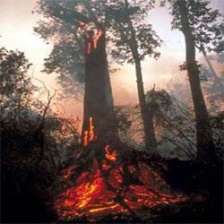fire: (72, 149, 159, 210)
